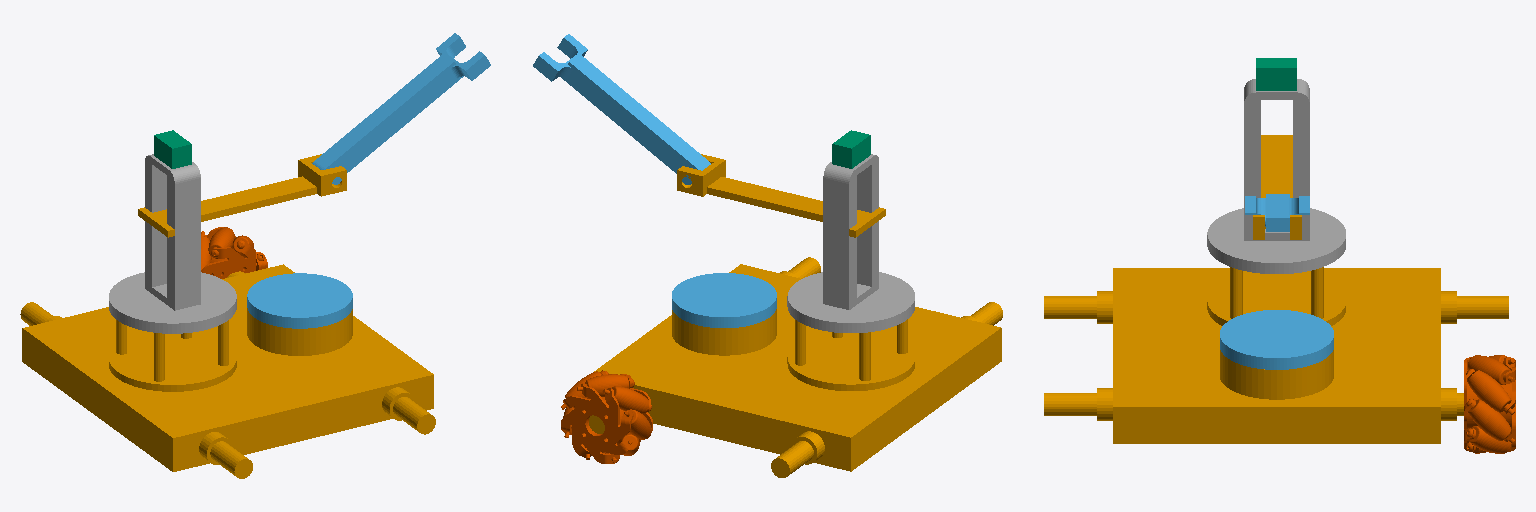
robot.urdf — little_bot:
<robot name="little_bot">
    <link name="base_link">
        <inertial>
            <origin xyz="0.002379389645183935 1.5870941312697752e-17 0.014613632958144862" rpy="0.0 0.0 0.0" />
            <mass value="1.514879905211409" />
            <inertia ixx="0.004193891160988535" iyy="0.00417277261462651" izz="0.008141070670075393" ixy="-1.4283119134593308e-15" iyz="-4.894818460227988e-19" ixz="-6.374008005996398e-05" />
        </inertial>
        <visual name="base_link_visual">
            <origin xyz="0.0 0.0 0.0" rpy="0.0 0.0 0.0" />
            <geometry>
                <mesh filename="package://littlebot/meshes/base_link.stl" scale="0.001 0.001 0.001" />
            </geometry>
        </visual>
        <collision name="base_link_collision">
            <origin xyz="0.0 0.0 0.0" rpy="0.0 0.0 0.0" />
            <geometry>
                <mesh filename="package://littlebot/meshes/base_link.stl" scale="0.001 0.001 0.001" />
            </geometry>
        </collision>
    </link>
    <link name="lidar">
        <inertial>
            <origin xyz="0.0 4.615770966296263e-18 0.0040000000000000036" rpy="0.0 -0.0 0.0" />
            <mass value="0.032634864485490744" />
            <inertia ixx="1.0168479859270376e-05" iyy="1.0168479859270986e-05" izz="1.9988854497362814e-05" ixy="-3.7658764995285325e-21" iyz="4.368416739453094e-21" ixz="-2.710505431213761e-20" />
        </inertial>
        <visual name="lidar_visual">
            <origin xyz="-0.055 0.0 -0.045" rpy="0.0 -0.0 0.0" />
            <geometry>
                <mesh filename="package://littlebot/meshes/lidar.stl" scale="0.001 0.001 0.001" />
            </geometry>
        </visual>
        <collision name="lidar_collision">
            <origin xyz="-0.055 0.0 -0.045" rpy="0.0 -0.0 0.0" />
            <geometry>
                <mesh filename="package://littlebot/meshes/lidar.stl" scale="0.001 0.001 0.001" />
            </geometry>
        </collision>
    </link>
    <link name="rear_left_wheel-v1_Component3">
        <inertial>
            <origin xyz="3.102295472068642e-08 -2.9861664205750358e-05 3.090283746010059e-08" rpy="0.0 0.0 0.0" />
            <mass value="0.06587225705261189" />
            <inertia ixx="1.851365021844267e-05" iyy="2.8353314654872332e-05" izz="1.8513608276880644e-05" ixy="1.157160629244632e-12" iyz="9.165735255197195e-13" ixz="-3.3038868068788775e-11" />
        </inertial>
        <visual name="rear_left_wheel-v1_Component3_visual">
            <origin xyz="0.0 0.0 0.0" rpy="1.570796 0.0 0.0" />
            <geometry>
                <mesh filename="package://littlebot/meshes/rear_left_wheel-v1_Component3.stl" scale="0.001 0.001 0.001" />
            </geometry>
        </visual>
        <collision name="rear_left_wheel-v1_Component3_collision">
            <origin xyz="0.0 0.0 0.0" rpy="1.570796 0.0 0.0" />
            <geometry>
                <mesh filename="package://littlebot/meshes/rear_left_wheel-v1_Component3.stl" scale="0.001 0.001 0.001" />
            </geometry>
        </collision> 
    </link>
    <link name="front_right_wheel-v1_Component3">
        <inertial>
            <origin xyz="3.102295472068309e-08 -2.9861664205750358e-05 3.09028374601006e-08" rpy="0.0 0.0 0.0" />
            <mass value="0.06587225705261189" />
            <inertia ixx="1.8513650218442887e-05" iyy="2.8353314654872224e-05" izz="1.8513608276880427e-05" ixy="1.1571605219168365e-12" iyz="9.165735119671963e-13" ixz="-3.30388680620125e-11" />
        </inertial>
        <visual name="front_right_wheel-v1_Component3_visual">
            <origin xyz="0.0 0.0 0.0" rpy="1.570796 0.0 0.0" />
            <geometry>
                <mesh filename="package://littlebot/meshes/front_right_wheel-v1_Component3.stl" scale="0.001 0.001 0.001" />
            </geometry>
        </visual>
        <collision name="front_right_wheel-v1_Component3_collision">
            <origin xyz="0.0 0.0 0.0" rpy="1.570796 0.0 0.0" />
            <geometry>
                <mesh filename="package://littlebot/meshes/front_right_wheel-v1_Component3.stl" scale="0.001 0.001 0.001" />
            </geometry>
        </collision> 
    </link>
    <link name="rear_right_wheel-v1_Component3">
        <inertial>
            <origin xyz="3.102295472067023e-08 -2.986166420575019e-05 3.090283746006602e-08" rpy="0.0 0.0 0.0" />
            <mass value="0.06587225705261189" />
            <inertia ixx="1.8513650218442847e-05" iyy="2.8353314654871743e-05" izz="1.851360827688088e-05" ixy="1.1571606425349658e-12" iyz="9.16573558587882e-13" ixz="-3.303886800259618e-11" />
        </inertial>
        <visual name="rear_right_wheel-v1_Component3_visual">
            <origin xyz="0.0 0.0 0.0" rpy="1.570796 0.0 0.0" />
            <geometry>
                <mesh filename="package://littlebot/meshes/rear_right_wheel-v1_Component3.stl" scale="0.001 0.001 0.001" />
            </geometry>
        </visual>
        <collision name="rear_right_wheel-v1_Component3_collision">
            <origin xyz="0.0 0.0 0.0" rpy="1.570796 0.0 0.0" />
            <geometry>
                <mesh filename="package://littlebot/meshes/rear_right_wheel-v1_Component3.stl" scale="0.001 0.001 0.001" />
            </geometry>
        </collision> 
    </link>
    <link name="front_left_wheel-v1_Component3">
        <inertial>
            <origin xyz="3.1022954720686394e-08 -2.986166420575033e-05 3.090283746010059e-08" rpy="0.0 0.0 0.0" />
            <mass value="0.06587225705261189" />
            <inertia ixx="1.8513650218442636e-05" iyy="2.8353314654872176e-05" izz="1.851360827688021e-05" ixy="1.1571604124041954e-12" iyz="9.165735255197186e-13" ixz="-3.303886806201248e-11" />
        </inertial>
        <visual name="front_left_wheel-v1_Component3_visual">
            <origin xyz="0.0 0.0 0.0" rpy="1.570796 0.0 0.0" />
            <geometry>
                <mesh filename="package://littlebot/meshes/front_left_wheel-v1_Component3.stl" scale="0.001 0.001 0.001" />
            </geometry>
        </visual>
        <collision name="front_left_wheel-v1_Component3_collision">
            <origin xyz="0.0 0.0 0.0" rpy="1.570796 0.0 0.0" />
            <geometry>
                <mesh filename="package://littlebot/meshes/front_left_wheel-v1_Component3.stl" scale="0.001 0.001 0.001" />
            </geometry>
        </collision>
    </link>
    <link name="imu">
        <inertial>
            <origin xyz="0.0 0.0 0.0010000000000000002" rpy="0.0 0.0 0.0" />
            <mass value="0.0012720000000000001" />
            <inertia ixx="4.2823999999999994e-08" iyy="9.582400000000004e-08" izz="1.3780000000000003e-07" ixy="0.0" iyz="2.9420910152566647e-24" ixz="0.0" />
        </inertial>
        <visual name="imu_visual">
            <origin xyz="0.0 -2.0816681711721684e-19 0.0" rpy="3.141592653589792 5.551120747954053e-17 0.0" />
            <geometry>
                <mesh filename="package://littlebot/meshes/imu.stl" scale="0.001 0.001 0.001" />
            </geometry>
        </visual>
        <collision name="imu_collision">
            <origin xyz="0.0 -2.0816681711721684e-19 0.0" rpy="3.141592653589792 5.551120747954053e-17 0.0" />
            <geometry>
                <mesh filename="package://littlebot/meshes/imu.stl" scale="0.001 0.001 0.001" />
            </geometry>
        </collision>
    </link>
    <link name="z_rail_link-v1">
        <inertial>
            <origin xyz="-0.024748 0.024748 0.028304" rpy="0.0 -0.0 0.0" />
            <mass value="0.2" />
            <inertia ixx="0.001" ixy="0.0" ixz="0.0" iyy="0.001" iyz="0.0" izz="0.001" />
        </inertial>
        <visual name="z_rail_link-v1_visual">
            <origin xyz="-0.024748740000000203 0.024748739999999856 -0.0025000000000001245" rpy="-3.978567994365925e-15 1.644517855226035e-15 0.0" />
            <geometry>
                <mesh filename="package://littlebot/meshes/z_rail_link-v1.stl" scale="0.001 0.001 0.001" />
            </geometry>
        </visual>
        <collision name="z_rail_link-v1_collision">
            <origin xyz="-0.024748740000000203 0.024748739999999856 -0.0025000000000001245" rpy="-3.978567994365925e-15 1.644517855226035e-15 0.0" />
            <geometry>
                <mesh filename="package://littlebot/meshes/z_rail_link-v1.stl" scale="0.001 0.001 0.001" />
            </geometry>
        </collision>
        <collision name="z_rail_link-v1_collision">
            <origin xyz="-0.02474874 0.02474874 -0.0025" rpy="0 0 0"/>
            <geometry>
                <box size="0.026 0.026 0.09"/>
            </geometry>
        </collision>
    </link>
    <link name="z_slider_link-v1">
        <inertial>
            <origin xyz="0.072629 -0.009749 0.053431" rpy="0.0 -0.0 0.0" />
            <mass value="0.1" />
            <inertia ixx="0.001" ixy="0.0" ixz="0.0" iyy="0.001" iyz="0.0" izz="0.001" />
        </inertial>
        <visual name="z_slider_link-v1_visual">
            <origin xyz="0.06499999985098813 -0.009750000000000208 0.04950624543758318" rpy="2.220446049250313e-16 -4.2622790524526534e-16 -2.685647149300691e-33" />
            <geometry>
                <mesh filename="package://littlebot/meshes/z_slider_link-v1.stl" scale="0.001 0.001 0.001" />
            </geometry>
        </visual>
        <collision name="z_slider_link-v1_collision">
            <origin xyz="0.06499999985098813 -0.009750000000000208 0.04950624543758318" rpy="2.220446049250313e-16 -4.2622790524526534e-16 -2.685647149300691e-33" />
            <geometry>
                <mesh filename="package://littlebot/meshes/z_slider_link-v1.stl" scale="0.001 0.001 0.001" />
            </geometry>
        </collision>
        <collision name="z_slider_link-v1_collision">
            <origin xyz="0.065 -0.00975 0.0495" rpy="0 0 0"/>
            <geometry>
                <box size="0.020 0.020 0.090"/>
            </geometry>
        </collision>
    </link>
    <link name="arm_link-v1">
        <inertial>
            <origin xyz="0.051477 0.028908 0.014749" rpy="0.0 -0.0 0.0" />
            <mass value="0.1" />
            <inertia ixx="0.001" ixy="0.0" ixz="0.0" iyy="0.001" iyz="0.0" izz="0.001" />
        </inertial>
        <visual name="arm_link-v1_visual">
            <origin xyz="0.0493165864898511 0.019408416875444062 0.014749999999999992" rpy="-1.5707963267948943 3.654616716425319e-15 0.5121588783581007" />
            <geometry>
                <mesh filename="package://littlebot/meshes/arm_link-v1.stl" scale="0.001 0.001 0.001" />
            </geometry>
        </visual>
        <collision name="arm_link-v1_collision">
            <origin xyz="0.0493165864898511 0.019408416875444062 0.014749999999999992" rpy="-1.5707963267948943 3.654616716425319e-15 0.5121588783581007" />
            <geometry>
                <mesh filename="package://littlebot/meshes/arm_link-v1.stl" scale="0.001 0.001 0.001" />
            </geometry>
        </collision>
    </link>
    <link name="camera-v1">
        <inertial>
            <origin xyz="-2.6645352591003756e-17 0.0 0.0075" rpy="0.0 -0.0 0.0" />
            <mass value="0.044156249999999994" />
            <inertia ixx="3.127734375000168e-06" iyy="1.6558593750001273e-06" izz="3.127734374999992e-06" ixy="1.3361336748022597e-36" iyz="2.4673473703533693e-36" ixz="0.0" />
        </inertial>
        <visual name="camera-v1_visual">
            <origin xyz="0.000249999999999968 0.0 0.0" rpy="-7.888609052210118e-31 2.914335439641036e-16 0.0" />
            <geometry>
                <mesh filename="package://littlebot/meshes/camera-v1.stl" scale="0.001 0.001 0.001" />
            </geometry>
        </visual>
        <collision name="camera-v1_collision">
            <origin xyz="0.000249999999999968 0.0 0.0" rpy="-7.888609052210118e-31 2.914335439641036e-16 0.0" />
            <geometry>
                <mesh filename="package://littlebot/meshes/camera-v1.stl" scale="0.001 0.001 0.001" />
            </geometry>
        </collision>
    </link>
    <joint name="base_link_lidar_joint" type="fixed">
        <origin xyz="0.055 0.0 0.045" rpy="0.0 -0.0 0.0" />
        <parent link="base_link" />
        <child link="lidar" />
    </joint>
    <joint name="base_link_rear_left_wheel_joint" type="continuous">
        <origin xyz="-0.07 0.13 0.0125" rpy="-1.5707963267948966 -0.0 0.0" />
        <parent link="base_link" />
        <child link="rear_left_wheel-v1_Component3" />
        <axis xyz="0.0 0.0 1.0" />
    </joint>
    <joint name="base_link_front_right_wheel_joint" type="continuous">
        <origin xyz="0.07 -0.13 0.0125" rpy="1.5707963267948966 -0.0 0.0" />
        <parent link="base_link" />
        <child link="front_right_wheel-v1_Component3" />
        <axis xyz="0.0 0.0 1.0" />
    </joint>
    <joint name="base_link_rear_right_wheel_joint" type="continuous">
        <origin xyz="-0.07 -0.13 0.0125" rpy="1.5707963267948966 -0.0 0.0" />
        <parent link="base_link" />
        <child link="rear_right_wheel-v1_Component3" />
        <axis xyz="0.0 0.0 1.0" />
    </joint>
    <joint name="base_link_front_left_wheel_joint" type="continuous">
        <origin xyz="0.07 0.13 0.0125" rpy="-1.5707963267948966 -0.0 0.0" />
        <parent link="base_link" />
        <child link="front_left_wheel-v1_Component3" />
        <axis xyz="0.0 0.0 1.0" />
    </joint>
    <joint name="base_link_imu_joint" type="fixed">
        <origin xyz="0.0 0.0 0.0" rpy="0.0 0.0 0.0" />
        <parent link="base_link" />
        <child link="imu" />
    </joint>
    <joint name="base_link_pillar_fixed_joint" type="fixed">
        <origin xyz="-0.01775126 -0.024748739999999998 0.07" rpy="0.0 -0.0 0.0" />
        <parent link="base_link" />
        <child link="z_rail_link-v1" />
    </joint>
    <joint name="z_rail_link-v1_z_axis_joint" type="prismatic">
        <origin xyz="-0.03474874 0.03474874 0.01" rpy="7.888609052210118e-31 -0.0 0.0" />
        <parent link="z_rail_link-v1" />
        <child link="z_slider_link-v1" />
        <axis xyz="0.0 0.0 1.0" />
        <limit lower="-0.05" upper="0.04" effort="20.0" velocity="0.2" />
        <dynamics damping="5.0" friction="1.0"/>
    </joint>

    <joint name="z_slider_link-v1_arm_joint" type="revolute">
        <origin xyz="0.1275 0.0052499999999999995 0.05900625000000001" rpy="1.5707963267948966 -0.0 0.0" />
        <parent link="z_slider_link-v1" />
        <child link="arm_link-v1" />
        <axis xyz="0.0 0.0 1.0" />
        <limit lower="-1.0" upper="0.8" effort="8.0" velocity="0.2" />
        <dynamics damping="3.0" friction="0.8"/>
    </joint>
    <joint name="z_rail_link-v1_camera_joint" type="fixed">
        <origin xyz="-0.024748739999999998 0.024748739999999998 0.105" rpy="7.888609052210118e-31 -0.0 0.0" />
        <parent link="z_rail_link-v1" />
        <child link="camera-v1" />
    </joint>
    <gazebo>
        <plugin name="omni_controller" filename="libgazebo_ros_planar_move.so">
            <ros>
                <namespace>/</namespace>
                <remapping>cmd_vel:=cmd_vel</remapping>
                <remapping>odom:=odom</remapping>
            </ros>
            <update_rate>100</update_rate>
            <publish_rate>50</publish_rate>
            <publish_odom>true</publish_odom>
            <publish_odom_tf>true</publish_odom_tf>
            <odometry_frame>odom</odometry_frame>
            <robot_base_frame>base_link</robot_base_frame>
            <covariance_x>0.0001</covariance_x>
            <covariance_y>0.0001</covariance_y>
            <covariance_yaw>0.01</covariance_yaw>
        </plugin>
    </gazebo>
    <gazebo reference="lidar">
        <sensor name="lidar_sensor" type="ray">
            <always_on>true</always_on>
            <visualize>true</visualize>
            <update_rate>10</update_rate>
            <ray>
                <scan>
                    <horizontal>
                        <samples>360</samples>
                        <resolution>1.000000</resolution>
                        <min_angle>0.000000</min_angle>
                        <max_angle>6.28319</max_angle>
                    </horizontal>
                </scan>
                <range>
                    <min>0.120000</min>
                    <max>8.0</max>
                    <resolution>0.015000</resolution>
                </range>
            </ray>
            <plugin name="scan" filename="libgazebo_ros_ray_sensor.so">
                <ros>
                    <remapping>~/out:=scan</remapping>
                </ros>
                <output_type>sensor_msgs/LaserScan</output_type>
                <frame_name>lidar</frame_name>
            </plugin>
        </sensor>
    </gazebo>
    <gazebo reference="imu">
        <sensor name="imu_sensor" type="imu">
            <always_on>true</always_on>
            <update_rate>100</update_rate>
            <visualize>true</visualize>
            <plugin filename="libgazebo_ros_imu_sensor.so" name="imu_plugin">
                <ros>
                    <remapping>~/out:=imu</remapping>
                </ros>
                <initial_orientation_as_reference>false</initial_orientation_as_reference>
            </plugin>
        </sensor>
    </gazebo>
    <gazebo reference="camera-v1">
        <sensor type="camera" name="camera_sensor">
            <update_rate>30.0</update_rate>
            <visualize>true</visualize>
            <camera name="head">
                <horizontal_fov>1.3962634</horizontal_fov>
                <image>
                    <width>640</width>
                    <height>480</height>
                    <format>R8G8B8</format>
                </image>
                <clip>
                    <near>0.02</near>
                    <far>300</far>
                </clip>
            </camera>
            <plugin name="camera_controller" filename="libgazebo_ros_camera.so">
                <alwaysOn>true</alwaysOn>
                <updateRate>0.0</updateRate>
                <cameraName>littlebot/camera</cameraName>
                <imageTopicName>image_raw</imageTopicName>
                <cameraInfoTopicName>camera_info</cameraInfoTopicName>
                <frameName>camera-v1</frameName>
            </plugin>
        </sensor>
    </gazebo>
    <gazebo>
        <plugin name="my_joint_state_publisher" filename="libgazebo_ros_joint_state_publisher.so">
            <ros>
                <remapping>~/out:=joint_states</remapping>
            </ros>
            <update_rate>30</update_rate>
            <joint_name>z_rail_link-v1_z_axis_joint</joint_name>
            <joint_name>z_slider_link-v1_arm_joint</joint_name>
            <!--publisher 4 banh cho rviz fix loi chum 4 banh vao lam 1-->
            <joint_name>base_link_front_right_wheel_joint</joint_name>
            <joint_name>base_link_front_left_wheel_joint</joint_name>
            <joint_name>base_link_rear_right_wheel_joint</joint_name>
            <joint_name>base_link_rear_left_wheel_joint</joint_name>
        </plugin>
    </gazebo>
    <gazebo>
        <plugin name="my_arm_controller" filename="libgazebo_ros_joint_pose_trajectory.so">
            <ros>
                <remapping>set_joint_trajectory:=/set_joint_trajectory</remapping>
            </ros>
            <update_rate>20</update_rate>
            <frame_id>base_link</frame_id>
            <joint_name>z_rail_link-v1_z_axis_joint</joint_name>
            <joint_name>z_slider_link-v1_arm_joint</joint_name>
        </plugin>
    </gazebo>
</robot>

--- Facts derived from the render (not from the file) ---
The picture shows the robot from 3 angles, left to right: view 1: azimuth 30°, elevation 25°; view 2: azimuth 150°, elevation 25°; view 3: azimuth 270°, elevation 25°; orthographic projection.
Robot: little_bot — 11 links, 10 joints (1 revolute, 4 continuous, 1 prismatic, 4 fixed); root link base_link; default pose: every joint at zero.
Links seen in each view (by area): view 1: base_link, z_rail_link-v1, arm_link-v1, lidar, z_slider_link-v1, front_left_wheel-v1_Component3, camera-v1; view 2: base_link, z_rail_link-v1, front_left_wheel-v1_Component3, arm_link-v1, lidar, z_slider_link-v1, camera-v1; view 3: base_link, z_rail_link-v1, lidar, front_left_wheel-v1_Component3, z_slider_link-v1, arm_link-v1, camera-v1.
Link boxes in pixels (x1,y1,x2,y2): base_link: (20,264,435,478); z_rail_link-v1: (109,154,236,333); arm_link-v1: (312,33,490,184); lidar: (247,273,352,328); z_slider_link-v1: (138,154,346,237); front_left_wheel-v1_Component3: (201,227,267,278); camera-v1: (154,130,191,168); base_link: (589,257,1002,477); z_rail_link-v1: (787,154,914,332); front_left_wheel-v1_Component3: (561,370,652,463); arm_link-v1: (533,34,710,184); lidar: (672,273,776,327); z_slider_link-v1: (677,154,885,237); camera-v1: (832,130,870,168); base_link: (1044,267,1508,443); z_rail_link-v1: (1207,79,1345,273); lidar: (1220,310,1333,369); front_left_wheel-v1_Component3: (1464,355,1515,453); z_slider_link-v1: (1253,135,1301,239); arm_link-v1: (1245,194,1309,231); camera-v1: (1256,58,1296,90).
Size in the robot's own frame: 0.2905 by 0.2878 by 0.2246 metres.
8 mesh visuals loaded from 11 distinct referenced files (8 binary STL); not drawn: 3 (reference not matched to a file when rendering).
